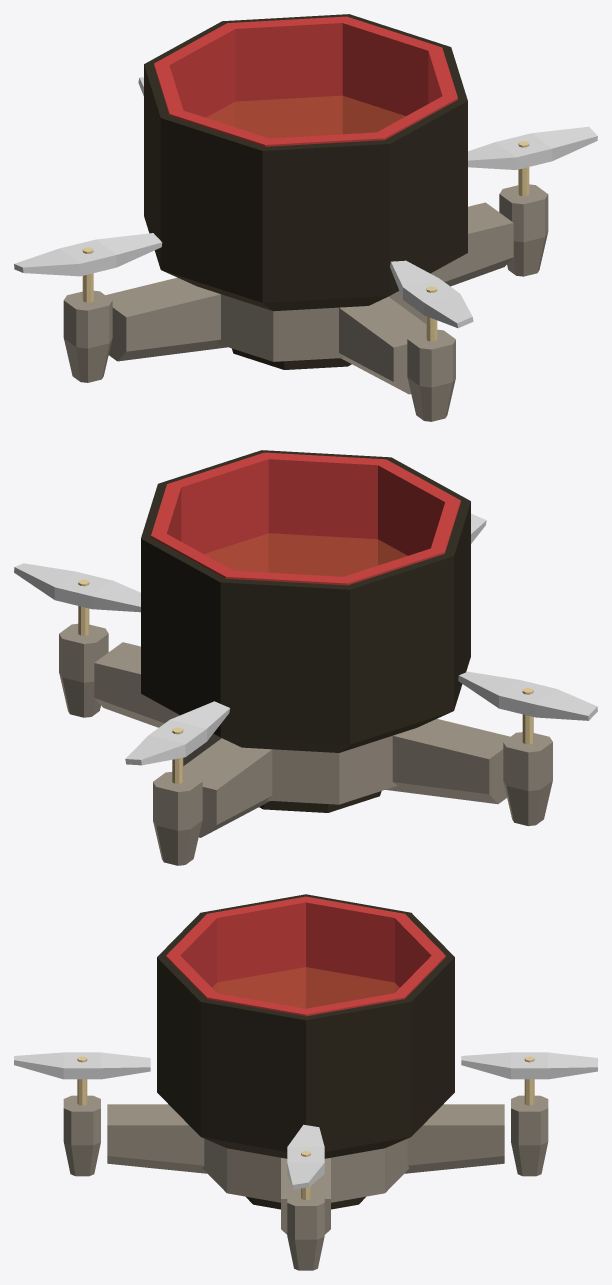
The model's file is WAZIMANURI-３.fbx.
3 views of the same model, one above another, from view 1: azimuth 30°, elevation 25°; view 2: azimuth 150°, elevation 25°; view 3: azimuth 270°, elevation 25° (orthographic). The views are drawn at different scales.
Visible parts, largest first — view 1: 円柱.026, 円柱.028, 立方体.049, 円柱.029, 円柱.027, 立方体.052, プロペラ３, 立方体.048, 立方体.051, プロペラ１, 立方体.055, 立方体.054 (+1 smaller); view 2: 円柱.026, 円柱.028, 立方体.049, 円柱.029, 円柱.027, 立方体.044, プロペラ３, 立方体.048, 立方体.045, プロペラ１, 立方体.055, プロペラ４ (+1 smaller); view 3: 円柱.026, 円柱.028, 円柱.029, 立方体.044, 立方体.052, 円柱.027, プロペラ２, プロペラ４, 立方体.045, 立方体.051, 立方体.054, プロペラ１ (+1 smaller).
Boxes of the visible parts, x1,y1,x2,y2 form: 円柱.026: (144, 14, 467, 369); 円柱.028: (154, 16, 457, 146); 立方体.049: (105, 277, 227, 361); 円柱.029: (216, 291, 426, 361); 円柱.027: (206, 95, 405, 138); 立方体.052: (339, 296, 426, 394); プロペラ３: (14, 233, 162, 302); 立方体.048: (63, 290, 112, 382); 立方体.051: (407, 329, 455, 421); プロペラ１: (468, 126, 597, 196); 立方体.055: (430, 202, 513, 286); 立方体.054: (499, 184, 548, 276); 円柱.026: (141, 450, 470, 812); 円柱.028: (151, 452, 460, 585); 立方体.049: (385, 719, 509, 804); 円柱.029: (183, 733, 397, 804); 円柱.027: (204, 533, 407, 576); 立方体.044: (183, 738, 272, 837); プロペラ３: (458, 671, 597, 744); 立方体.048: (503, 732, 552, 826); 立方体.045: (153, 772, 202, 865); プロペラ１: (14, 563, 140, 635); 立方体.055: (94, 642, 179, 727); プロペラ４: (125, 701, 230, 783); 円柱.026: (157, 894, 454, 1209); 円柱.028: (166, 896, 445, 1016); 円柱.029: (202, 1138, 409, 1202); 立方体.044: (404, 1104, 504, 1173); 立方体.052: (107, 1104, 207, 1173); 円柱.027: (212, 967, 399, 1008); プロペラ２: (14, 1052, 150, 1105); プロペラ４: (461, 1052, 597, 1105); 立方体.045: (511, 1095, 548, 1176); 立方体.051: (63, 1095, 100, 1176); 立方体.054: (287, 1190, 324, 1270); プロペラ１: (287, 1124, 324, 1199).
Bounding box in the file's own units: 2351 × 1007 × 2351.
